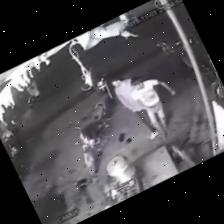person: (111, 78, 158, 139), (132, 79, 176, 134)
